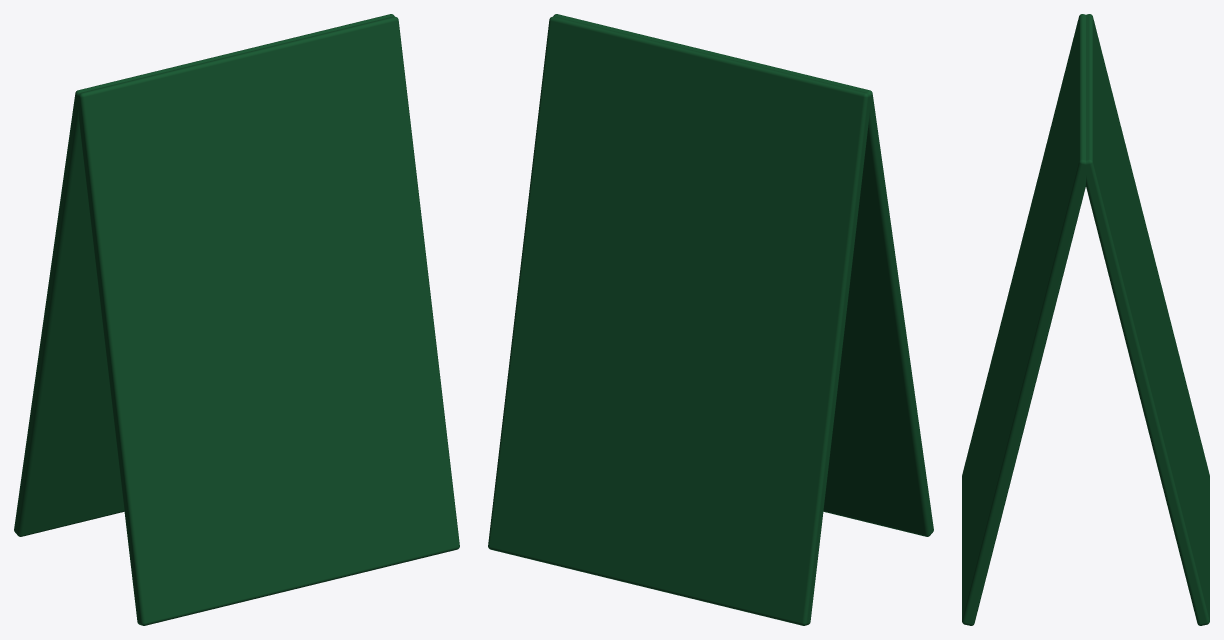
The model's file is a-frame-sign.glb.
3 renders of one model, left to right at view 1: azimuth 30°, elevation 25°; view 2: azimuth 150°, elevation 25°; view 3: azimuth 270°, elevation 25°, orthographic. The views are drawn at different scales.
Parts seen in each view (by area): view 1: Boards; view 2: Boards; view 3: Boards.
Part boxes in pixels (bbox=[...]): Boards: bbox=[14, 14, 459, 625]; Boards: bbox=[488, 14, 933, 625]; Boards: bbox=[962, 14, 1209, 625].
Size of the model in its own units: 0.6 by 0.8795 by 0.424.
